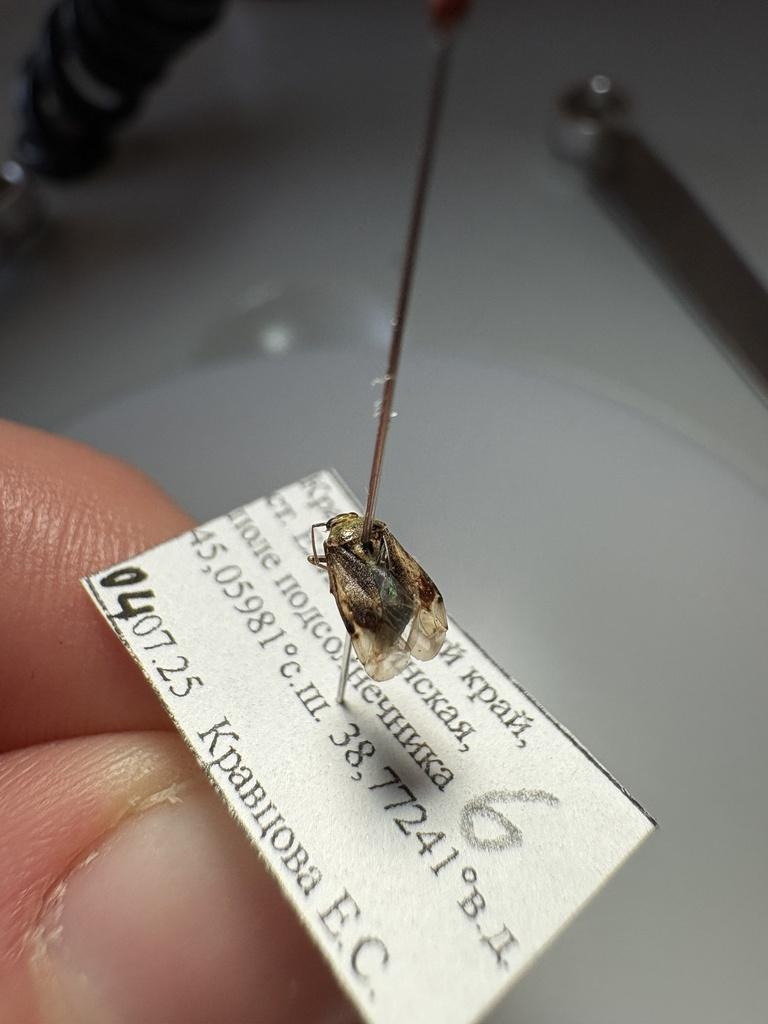plant_bugs: (271, 467, 523, 744)
